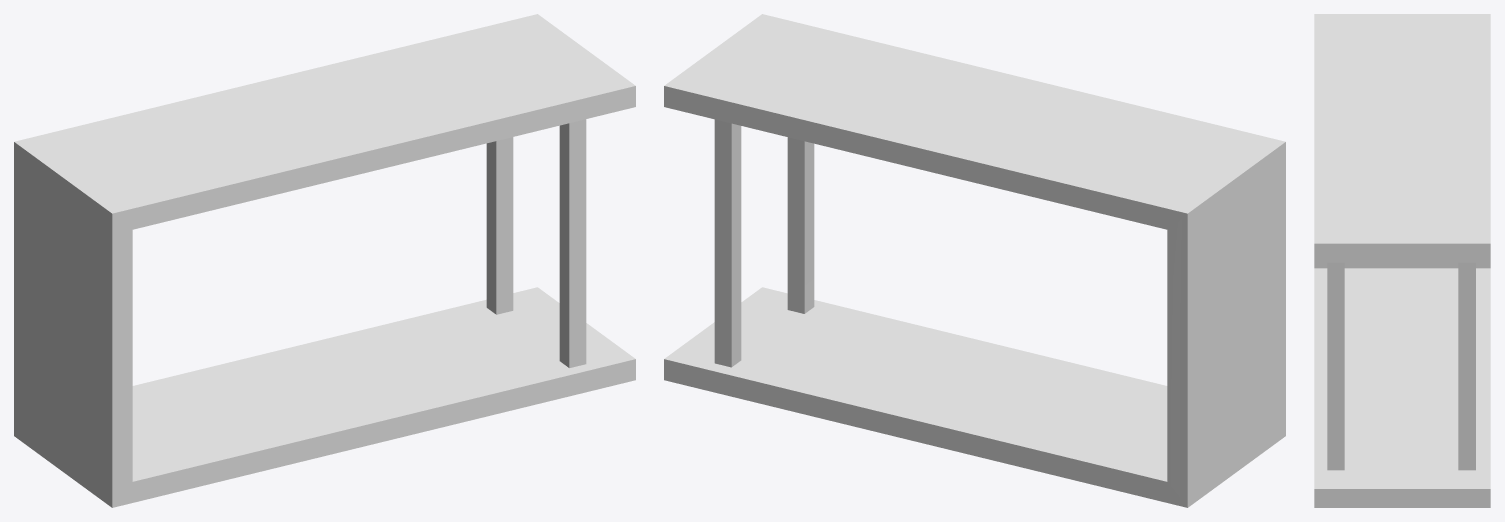
File: shelf_068.glb
3 views of the same model, side by side, from view 1: azimuth 30°, elevation 25°; view 2: azimuth 150°, elevation 25°; view 3: azimuth 270°, elevation 25° (orthographic). The views are drawn at different scales.
Parts seen in each view (by area): view 1: shelf_068; view 2: shelf_068; view 3: shelf_068.
Part boxes in pixels (<box>): shelf_068: <box>14,14,635,507</box>; shelf_068: <box>664,14,1285,507</box>; shelf_068: <box>1314,14,1490,507</box>.
Bounding box in the file's own units: 0.9243 × 0.4964 × 0.3002.
Materials: 1 (1 with a texture image).
